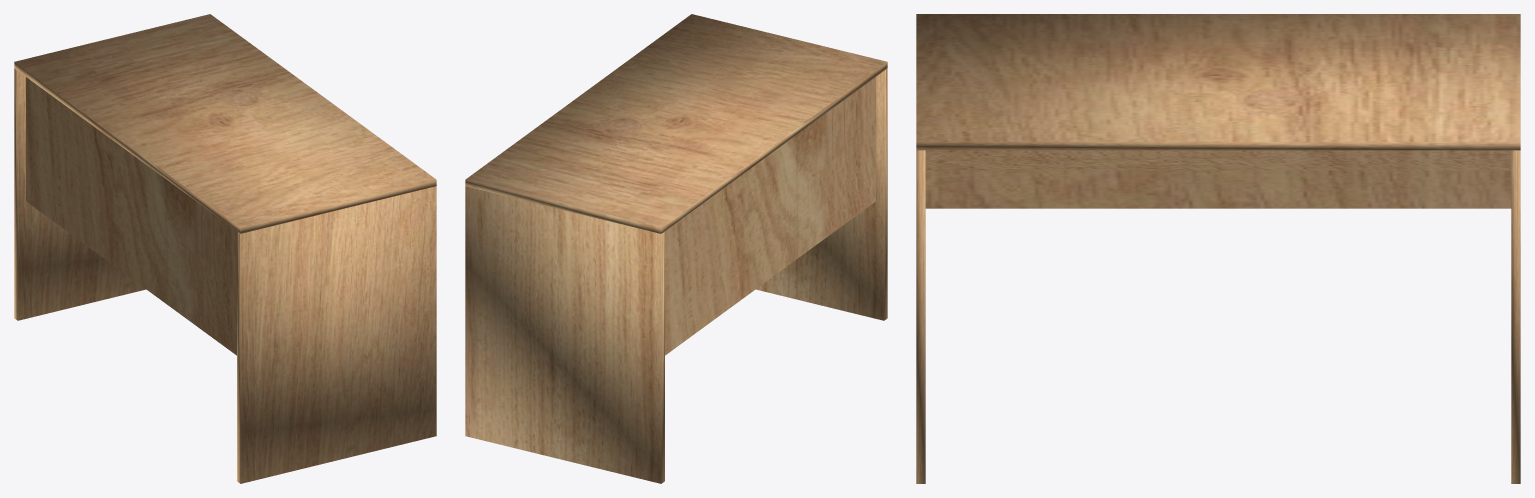
Rendered from desk.glb.
The picture shows the model from 3 angles, left to right: view 1: azimuth 30°, elevation 25°; view 2: azimuth 150°, elevation 25°; view 3: azimuth 270°, elevation 25°; orthographic projection. The views are drawn at different scales.
Visible parts, largest first — view 1: Cube.002, Cube.003, Cube.004, Cube; view 2: Cube, Cube.003, Cube.004, Cube.002; view 3: Cube.003, Cube.004, Cube.001, Cube, Cube.002.
Boxes of the visible parts, x1,y1,x2,y2 form: Cube.002: (237,186,436,483); Cube.003: (14,14,436,233); Cube.004: (26,77,236,355); Cube: (14,68,145,320); Cube: (465,186,664,483); Cube.003: (465,14,887,233); Cube.004: (665,77,875,355); Cube.002: (756,68,887,320); Cube.003: (916,14,1520,150); Cube.004: (925,170,1511,208); Cube.001: (925,150,1511,170); Cube: (1511,150,1520,483); Cube.002: (916,150,925,483).
Size of the model in its own units: 24 by 30 by 48.
Materials: 1 (1 with a texture image).
